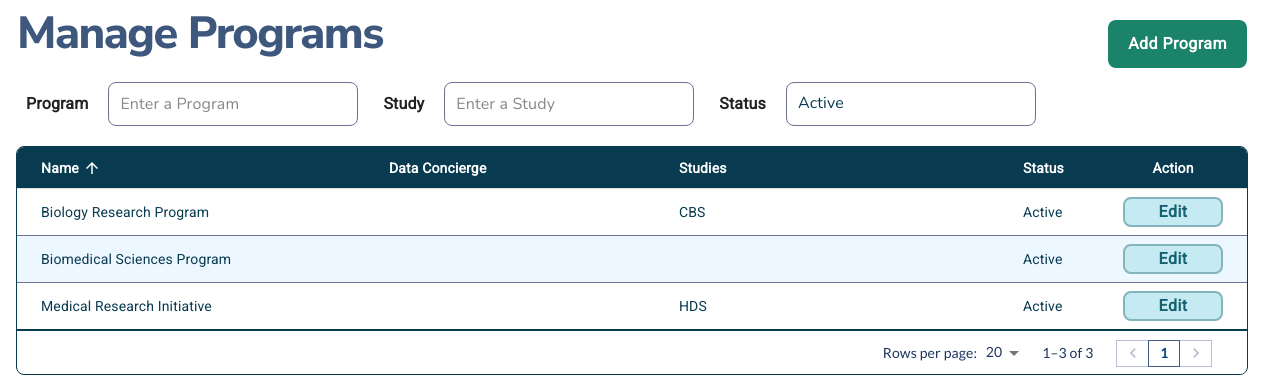
Implementation Requirements › shows all programs when filter is cleared
Expected: the text "Biology Research Program" is shown, [41,204,209,220]
Type "bio" into the field with placeholder "Enter a Program" at (233, 104), box [108,82,358,126]
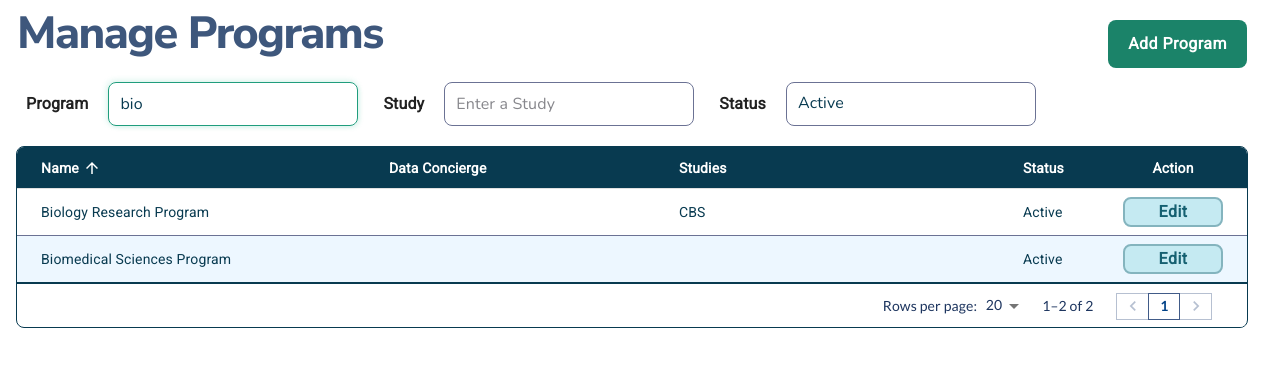
Expected: the text "Biology Research Program" is shown, [41,204,209,220]
Clear the field labelled "Program" at (233, 104), box [108,82,358,126]
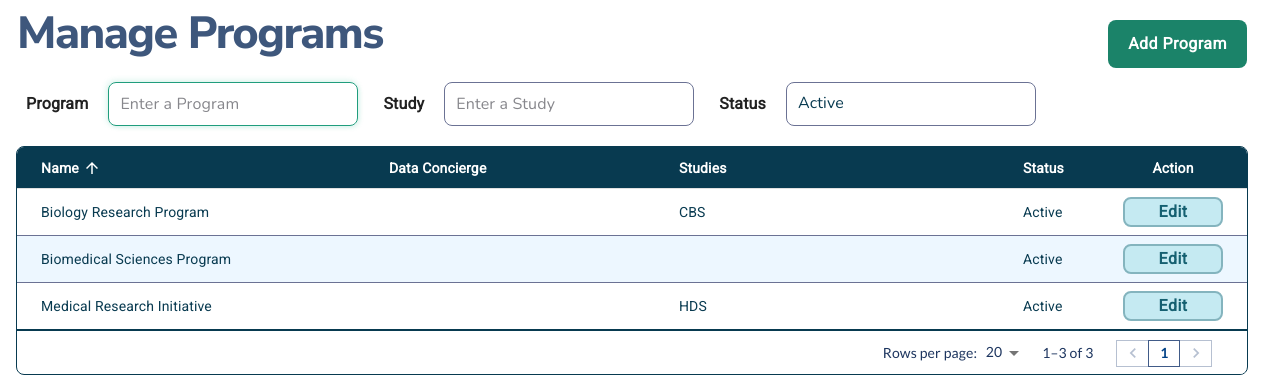
Expected: the text "Biology Research Program" is shown, [41,204,209,220]
Result: the text "Medical Research Initiative" is shown at [41,298,212,314]
